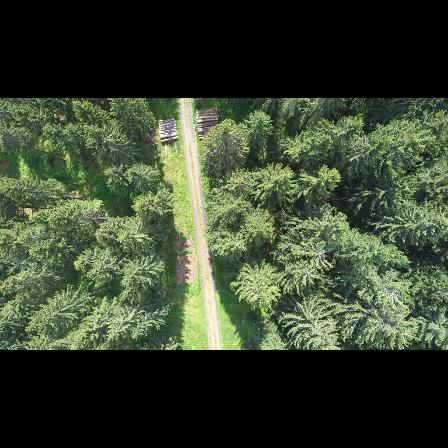Sick: (376, 278, 408, 312), (306, 241, 332, 265)
